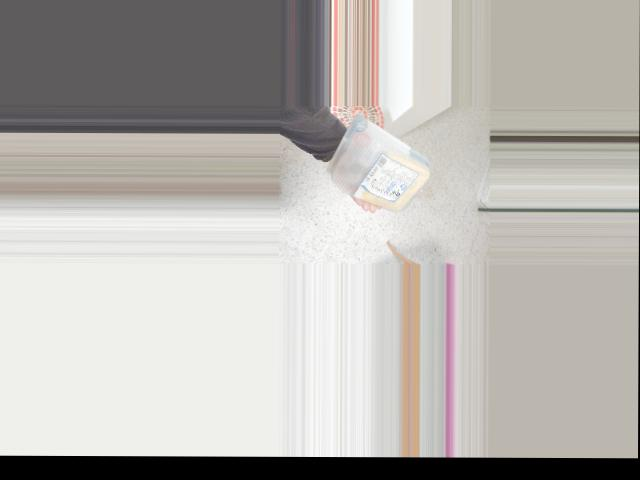cheese: (328, 121, 436, 212)
